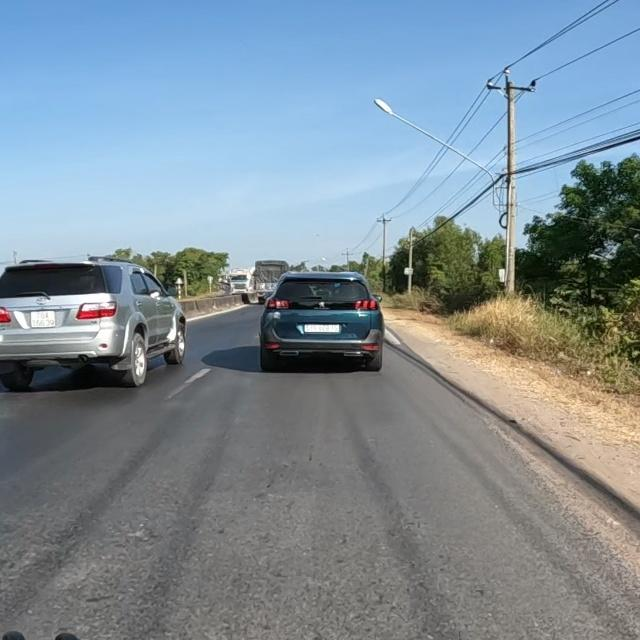license-plate: (30, 310, 56, 328), (302, 322, 340, 333)
